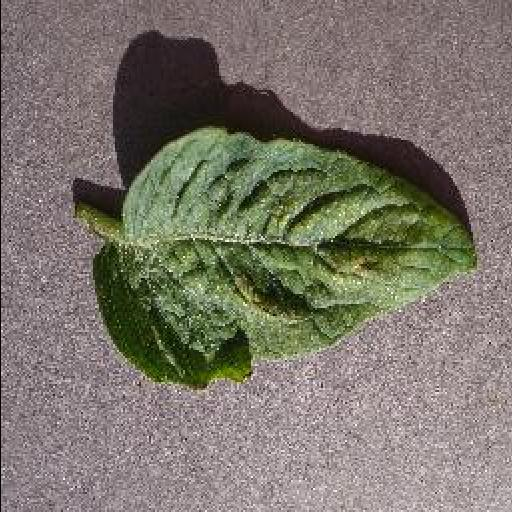disease_tomato: (88, 126, 478, 394)
